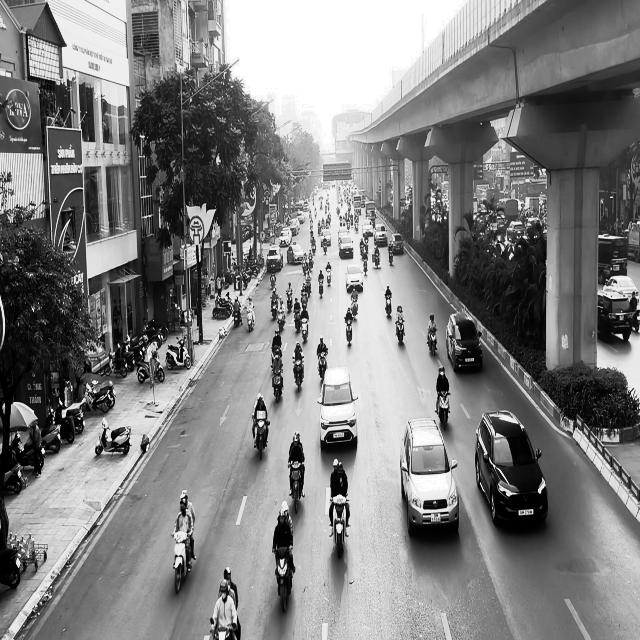car: (474, 409, 548, 527), (400, 417, 459, 536), (317, 366, 358, 449), (446, 311, 483, 373), (345, 264, 363, 292), (266, 245, 283, 272), (286, 244, 304, 264), (338, 236, 354, 258), (373, 224, 388, 246), (389, 233, 403, 254)
motorbike: (95, 417, 132, 456), (272, 545, 293, 612), (171, 530, 192, 594), (329, 494, 349, 559), (251, 412, 270, 460), (165, 335, 191, 370), (288, 459, 304, 514), (136, 354, 164, 383), (436, 391, 450, 428), (270, 367, 284, 402), (292, 355, 304, 391), (316, 350, 328, 380), (426, 328, 436, 356), (395, 319, 405, 344), (300, 317, 309, 343), (246, 306, 255, 331), (344, 317, 352, 344), (277, 307, 286, 331), (293, 308, 301, 332), (384, 294, 392, 316), (350, 298, 358, 320), (286, 290, 293, 312), (325, 267, 332, 286), (318, 278, 323, 298), (388, 247, 393, 265)
